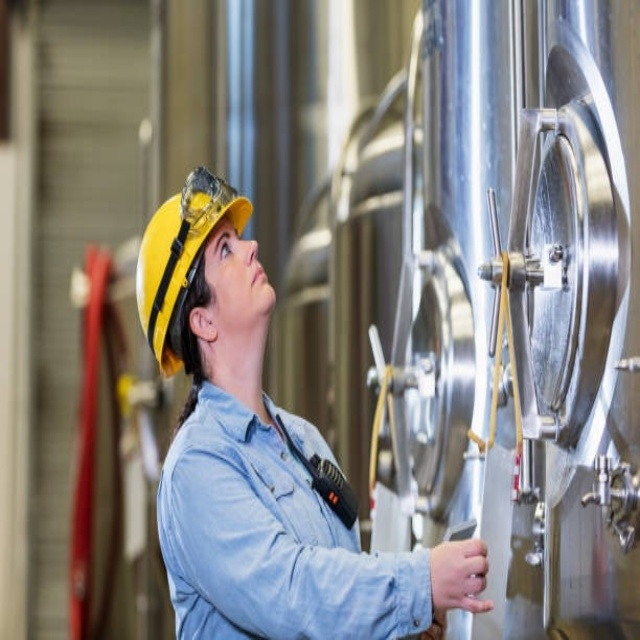Sin_gafas: (210, 217, 245, 294)
Sin_guantes: (431, 535, 496, 622)
Sin_mascara: (244, 252, 278, 311)
